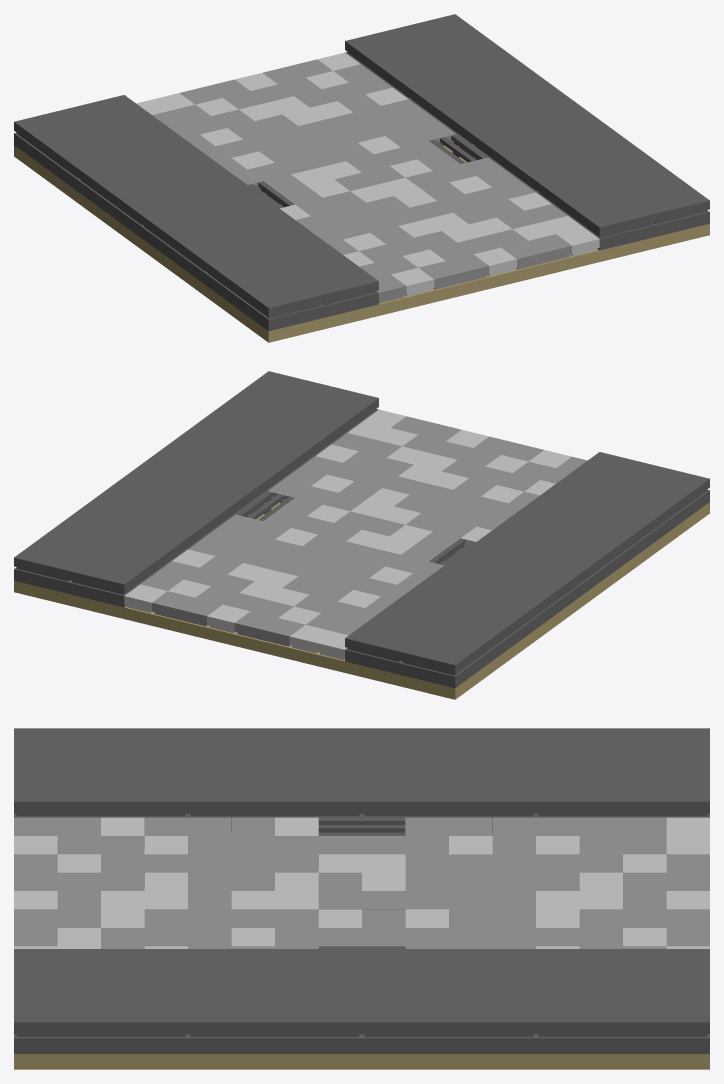
File: Legoroad1-lod0.fbx
The picture shows the model from 3 angles, top to bottom: view 1: azimuth 30°, elevation 25°; view 2: azimuth 150°, elevation 25°; view 3: azimuth 270°, elevation 25°; orthographic projection. The views are drawn at different scales.
Parts seen in each view (by area): view 1: Material_199, Material_194, Material_208, Material_5; view 2: Material_199, Material_194, Material_208, Material_5; view 3: Material_199, Material_194, Material_208, Material_5.
Boxes of the visible parts, x1,y1,x2,y2 form: Material_199: (14,14,709,330); Material_194: (152,59,571,302); Material_208: (136,52,599,296); Material_5: (14,145,709,342); Material_199: (14,371,709,687); Material_194: (140,416,587,646); Material_208: (124,409,571,659); Material_5: (14,502,709,699); Material_199: (14,728,709,1053); Material_194: (14,817,709,948); Material_208: (14,817,709,948); Material_5: (14,833,709,1069).
Size of the model in its own units: 12.8 by 0.96 by 12.8.
